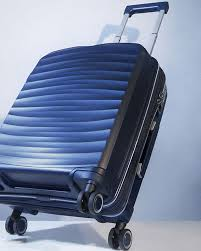suitcase: (1, 1, 171, 251)
